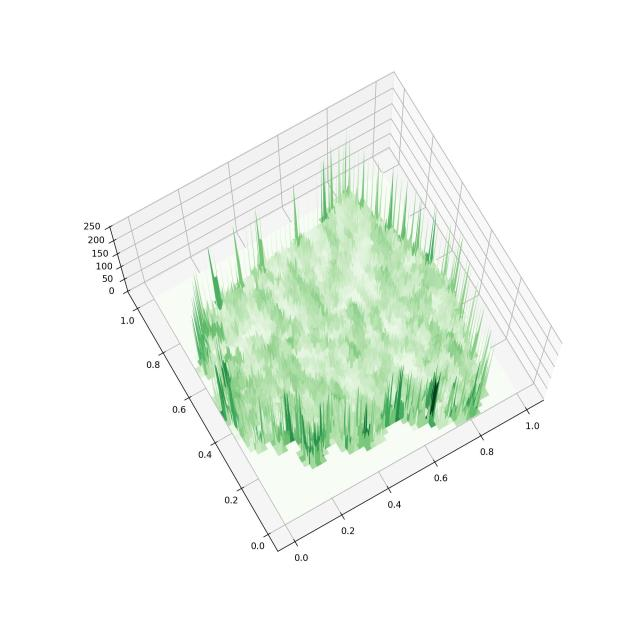pine: (43, 47, 594, 594)
